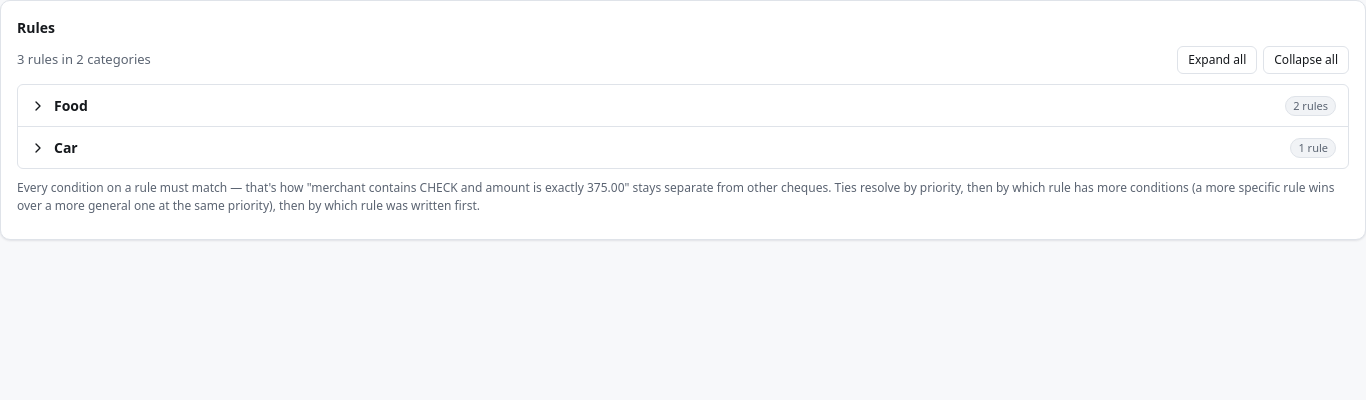
RulesPanel › opens a group to show its rules, and closes it again
Click the button "Food 2 rules".
click(71, 106)  # box [18,85,1348,126]
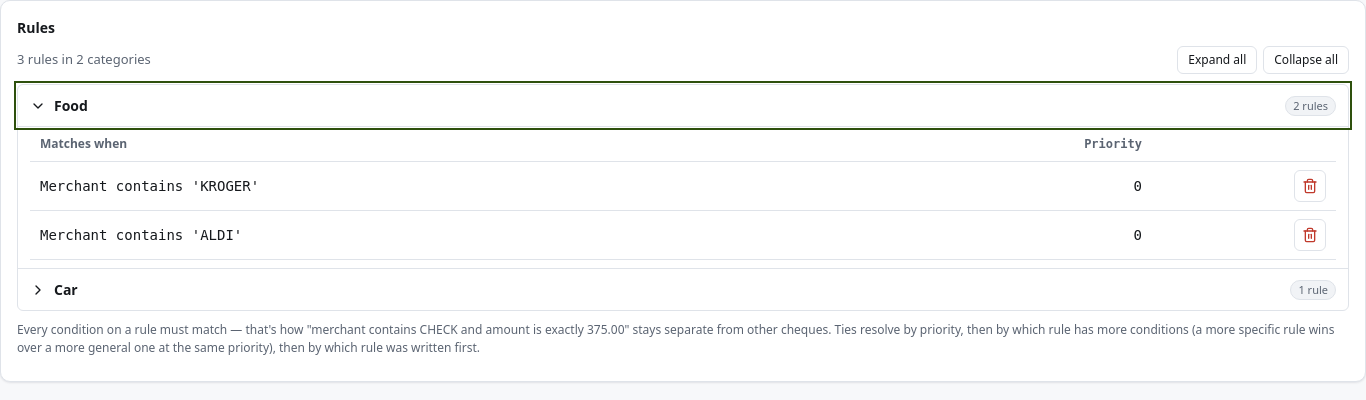
Check: the text "Merchant contains 'KROGER'" is shown, box [40,178,259,194]
Check: the text "Merchant contains 'ALDI'" is shown, box [40,227,242,243]
Click the button "Food 2 rules".
click(71, 106)  # box [18,85,1348,126]
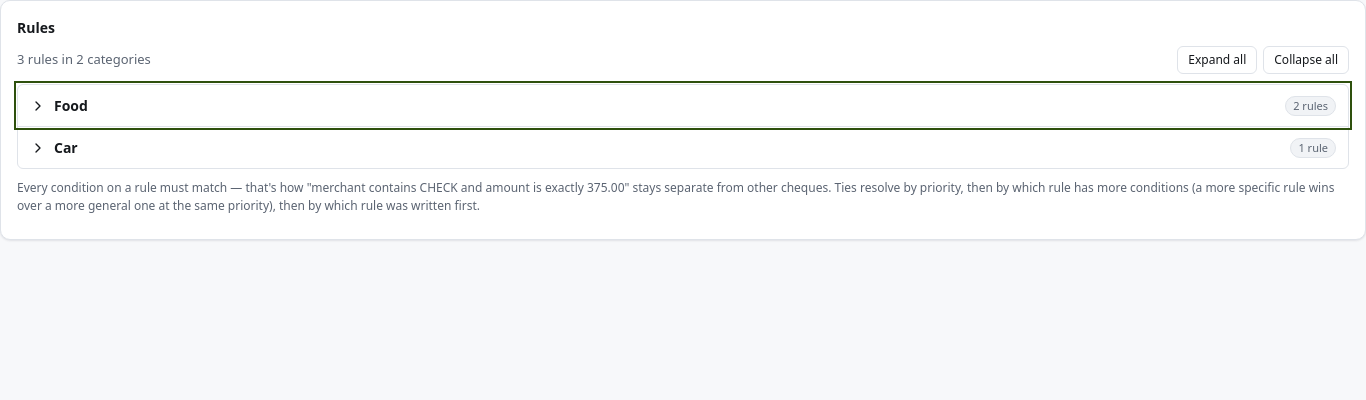
Check: the text "KROGER" is gone
